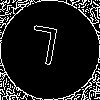L: (25, 25, 60, 75)
